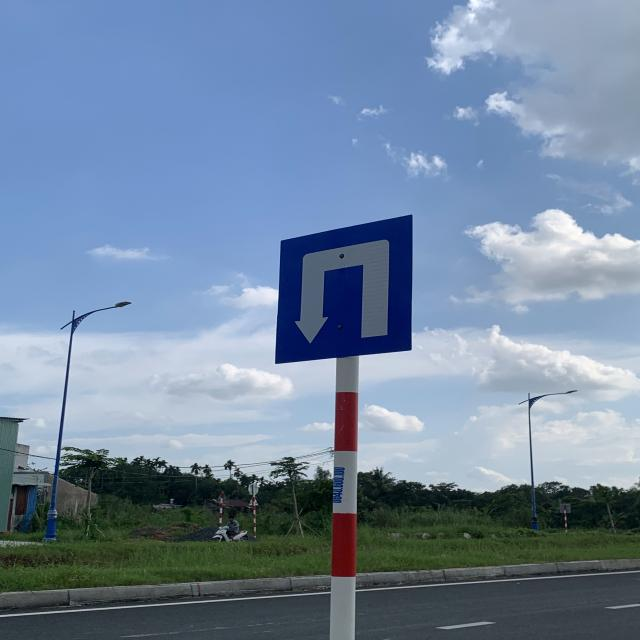Den_Giao_Thong: (272, 216, 413, 362)
